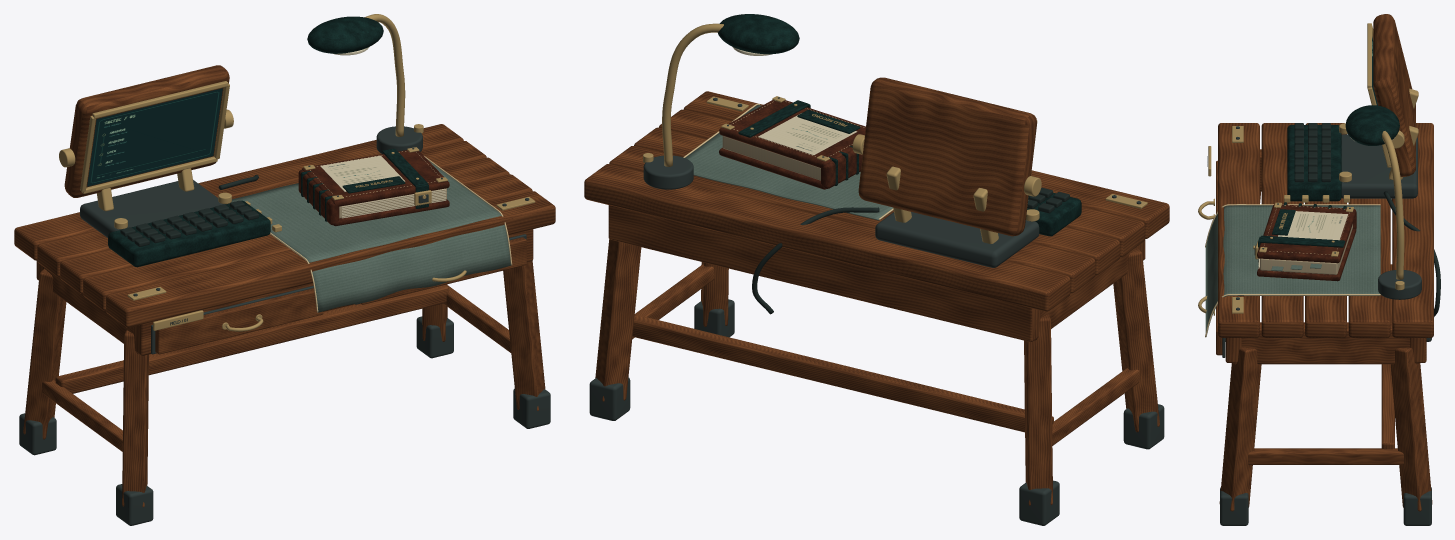
Rendered from post_battle_corner.glb.
3 views of the same model, side by side, from view 1: azimuth 30°, elevation 25°; view 2: azimuth 150°, elevation 25°; view 3: azimuth 270°, elevation 25° (orthographic). The views are drawn at different scales.
Visible parts, largest first — view 1: Woven working mat, Walnut top plank 1, Recessed tactical display, Lower long stretcher, Walnut top plank 2, Walnut top plank 5, Wood framed terminal, Drawer front, Splayed wooden leg.002, Splayed wooden leg.001, Leather command deck, Terminal heel (+23 smaller); view 2: Wood framed terminal, Walnut top plank 5, Rear hardwood apron, Lower long stretcher, Woven working mat, Splayed wooden leg.003, Terminal heel, Splayed wooden leg, Walnut top plank 4, Splayed wooden leg.001, Walnut top plank 1, Walnut top plank 2 (+20 smaller); view 3: Woven working mat, Walnut top plank 5, Walnut top plank 1, Splayed wooden leg.002, Splayed wooden leg.003, Side frame.001, Walnut top plank 2, Wood framed terminal, Terminal heel, Walnut top plank 4, Low side stretcher.001, Leather command deck (+19 smaller).
Boxes of the visible parts, x1=… form: Woven working mat: x1=231, y1=161, x2=511, y2=312; Walnut top plank 1: x1=106, y1=191, x2=555, y2=327; Recessed tactical display: x1=87, y1=88, x2=222, y2=186; Lower long stretcher: x1=55, y1=285, x2=448, y2=393; Walnut top plank 2: x1=83, y1=174, x2=532, y2=310; Walnut top plank 5: x1=14, y1=124, x2=463, y2=260; Wood framed terminal: x1=64, y1=65, x2=229, y2=197; Drawer front: x1=155, y1=288, x2=323, y2=354; Splayed wooden leg.002: x1=503, y1=260, x2=545, y2=410; Splayed wooden leg.001: x1=23, y1=269, x2=66, y2=439; Leather command deck: x1=108, y1=200, x2=270, y2=267; Terminal heel: x1=80, y1=180, x2=225, y2=237; Wood framed terminal: x1=858, y1=77, x2=1036, y2=236; Walnut top plank 5: x1=584, y1=164, x2=1070, y2=311; Rear hardwood apron: x1=608, y1=205, x2=1040, y2=341; Lower long stretcher: x1=632, y1=315, x2=1053, y2=432; Woven working mat: x1=685, y1=105, x2=892, y2=220; Splayed wooden leg.003: x1=595, y1=239, x2=641, y2=401; Terminal heel: x1=875, y1=212, x2=1039, y2=267; Splayed wooden leg: x1=1113, y1=248, x2=1159, y2=432; Walnut top plank 4: x1=609, y1=146, x2=1095, y2=293; Splayed wooden leg.001: x1=1024, y1=314, x2=1052, y2=505; Walnut top plank 1: x1=683, y1=91, x2=1169, y2=238; Walnut top plank 2: x1=659, y1=109, x2=1144, y2=257; Woven working mat: x1=1205, y1=205, x2=1380, y2=336; Walnut top plank 5: x1=1392, y1=123, x2=1433, y2=337; Walnut top plank 1: x1=1218, y1=123, x2=1259, y2=337; Splayed wooden leg.002: x1=1219, y1=347, x2=1261, y2=511; Splayed wooden leg.003: x1=1390, y1=347, x2=1432, y2=511; Side frame.001: x1=1233, y1=322, x2=1418, y2=364; Walnut top plank 2: x1=1261, y1=123, x2=1303, y2=337; Wood framed terminal: x1=1373, y1=14, x2=1415, y2=176; Terminal heel: x1=1341, y1=134, x2=1417, y2=198; Walnut top plank 4: x1=1348, y1=198, x2=1390, y2=337; Low side stretcher.001: x1=1248, y1=448, x2=1403, y2=464; Leather command deck: x1=1287, y1=125, x2=1341, y2=201.
Size of the model in its own units: 1.82 by 1.51 by 0.937.
Materials: 18 (9 with a texture image).
